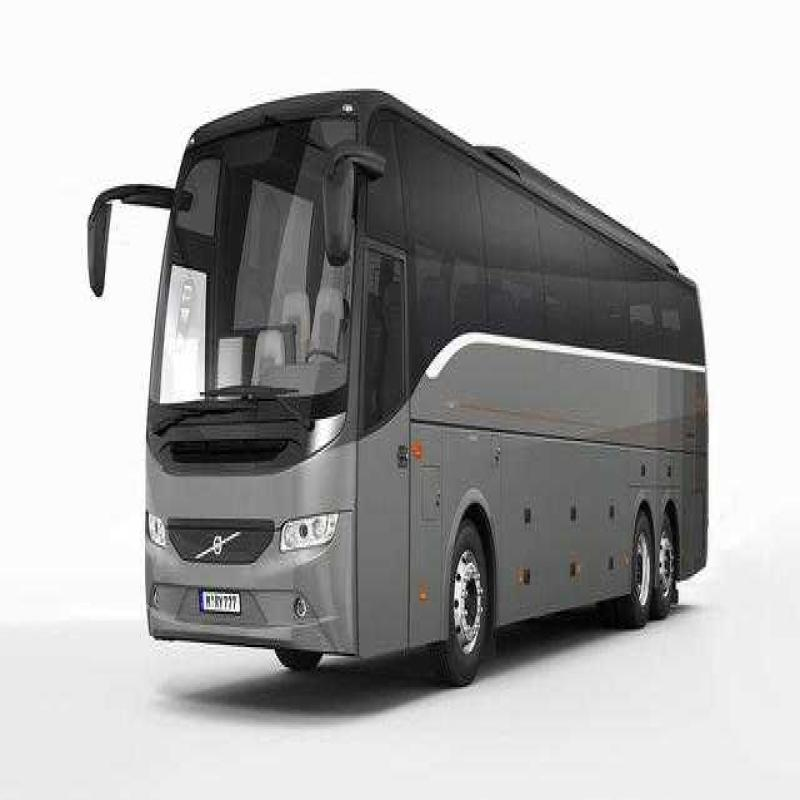bus: (86, 51, 720, 660)
